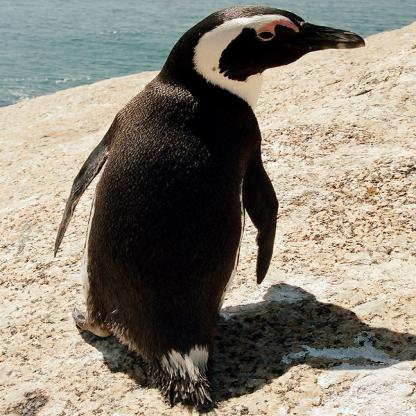Penguin: (59, 1, 375, 415)
